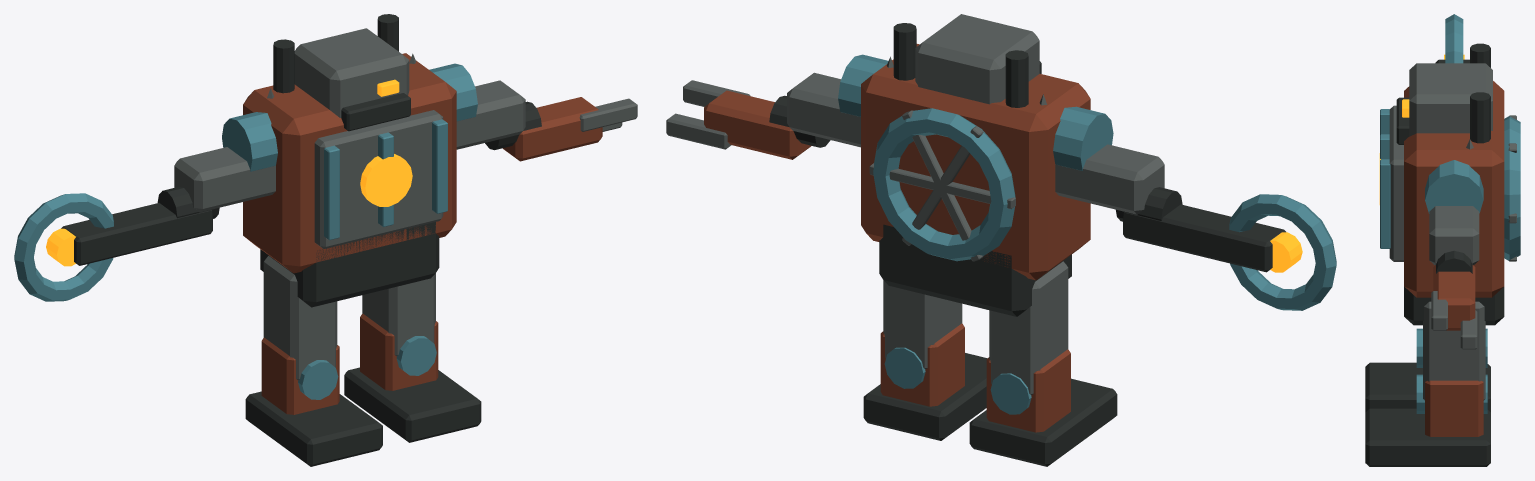
File: robot-ripper.glb
3 views of the same model, side by side, from view 1: azimuth 30°, elevation 25°; view 2: azimuth 150°, elevation 25°; view 3: azimuth 270°, elevation 25° (orthographic). The views are drawn at different scales.
Visible parts, largest first — view 1: Ripper_Chest, Ripper_ChestPlate, Ripper_Pelvis, Ripper_Head, Ripper_LFoot, Ripper_RFoot, Ripper_LThigh, Ripper_SawArm, Ripper_Saw, Ripper_LUpperArm, Ripper_RThigh, Ripper_RClawForearm (+18 smaller); view 2: Ripper_Chest, Ripper_Flywheel, Ripper_Head, Ripper_Pelvis, Ripper_LThigh, Ripper_SawArm, Ripper_LFoot, Ripper_Saw, Ripper_LUpperArm, Ripper_RFoot, Ripper_RThigh, Ripper_RClawForearm (+19 smaller); view 3: Ripper_Chest, Ripper_RFoot, Ripper_Head, Ripper_RThigh, Ripper_RShin, Ripper_LFoot, Ripper_RUpperArm, Ripper_RShoulder, Ripper_Flywheel, Ripper_ChestPlate, Ripper_RClawForearm, Ripper_Pelvis (+12 smaller).
Part boxes in pixels (<box>): Ripper_Chest: <box>243,53,456,273</box>; Ripper_ChestPlate: <box>314,110,443,248</box>; Ripper_Pelvis: <box>260,222,439,307</box>; Ripper_Head: <box>294,28,409,117</box>; Ripper_LFoot: <box>245,391,382,466</box>; Ripper_RFoot: <box>344,367,481,442</box>; Ripper_LThigh: <box>263,256,337,380</box>; Ripper_SawArm: <box>61,203,212,265</box>; Ripper_Saw: <box>14,193,113,301</box>; Ripper_LUpperArm: <box>174,147,275,212</box>; Ripper_RThigh: <box>362,273,435,356</box>; Ripper_RClawForearm: <box>503,97,602,161</box>; Ripper_Chest: <box>861,44,1090,280</box>; Ripper_Flywheel: <box>873,108,1015,261</box>; Ripper_Head: <box>915,14,1039,104</box>; Ripper_Pelvis: <box>879,224,1071,316</box>; Ripper_LThigh: <box>989,261,1068,395</box>; Ripper_SawArm: <box>1123,204,1285,272</box>; Ripper_LFoot: <box>969,378,1117,466</box>; Ripper_Saw: <box>1229,194,1336,310</box>; Ripper_LUpperArm: <box>1055,144,1164,214</box>; Ripper_RFoot: <box>863,353,987,440</box>; Ripper_RThigh: <box>883,280,962,369</box>; Ripper_RClawForearm: <box>704,90,811,159</box>; Ripper_Chest: <box>1404,81,1504,297</box>; Ripper_RFoot: <box>1365,408,1490,466</box>; Ripper_Head: <box>1409,63,1492,136</box>; Ripper_RThigh: <box>1423,301,1485,400</box>; Ripper_RShin: <box>1425,380,1483,436</box>; Ripper_LFoot: <box>1365,362,1490,412</box>; Ripper_RUpperArm: <box>1429,206,1479,265</box>; Ripper_RShoulder: <box>1425,160,1483,213</box>; Ripper_Flywheel: <box>1504,116,1520,260</box>; Ripper_ChestPlate: <box>1389,105,1403,261</box>; Ripper_RClawForearm: <box>1433,265,1475,330</box>; Ripper_Pelvis: <box>1404,286,1504,325</box>.
Bounding box in the file's own units: 6.46 × 3.76 × 1.48.
